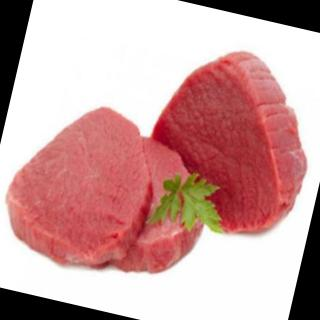Daging Sapi: (138, 36, 320, 246), (1, 89, 167, 278)
